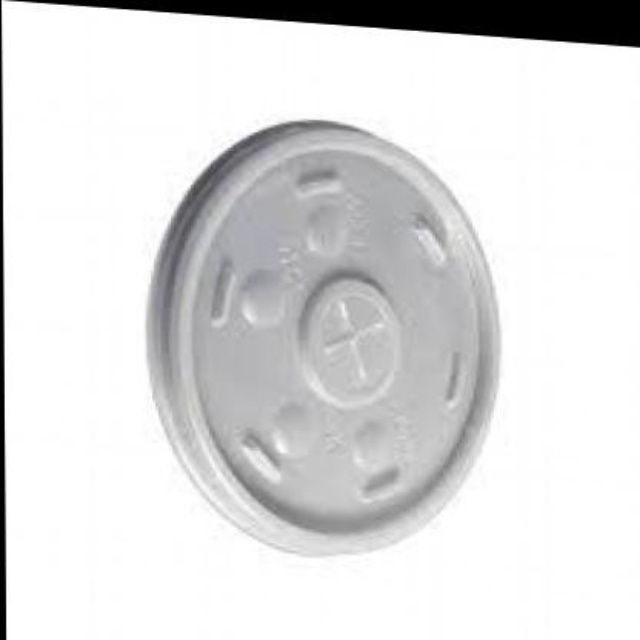trash: (148, 122, 497, 554)
